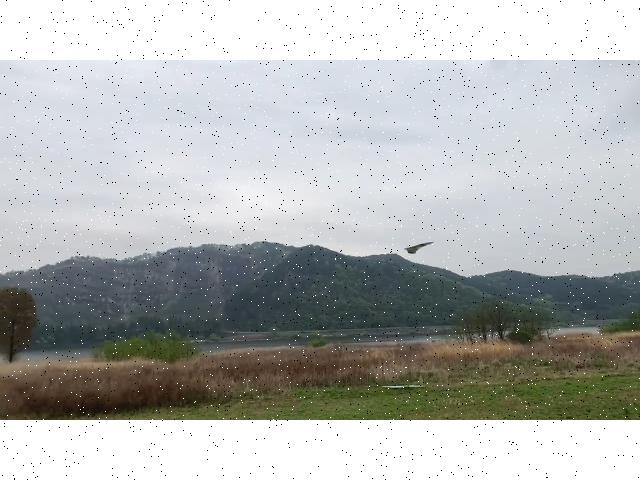Anti-Drone: (404, 242, 432, 253)
